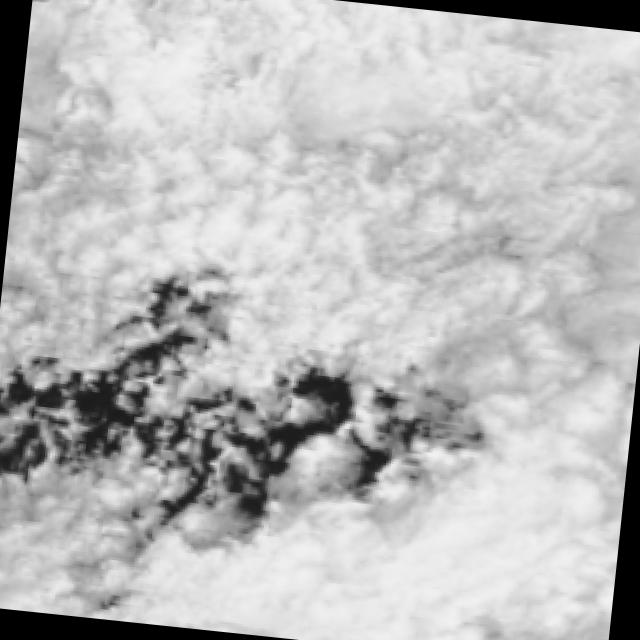CB: (175, 0, 640, 291), (431, 456, 606, 602), (257, 520, 438, 640)
